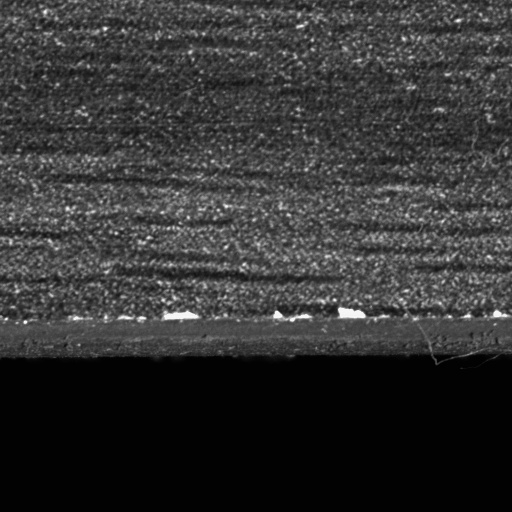huashang: (162, 310, 199, 321), (334, 308, 368, 319)
